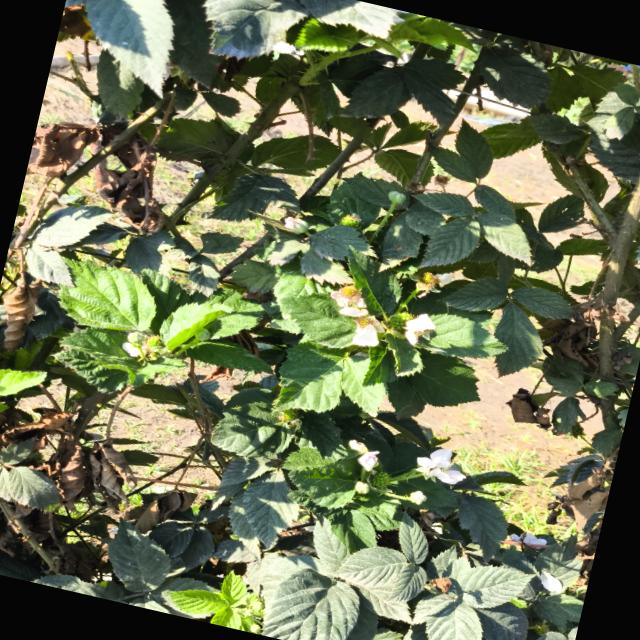boton: (387, 190, 405, 204), (126, 331, 144, 344), (354, 481, 369, 494)
flor: (416, 448, 465, 484), (404, 313, 435, 344), (351, 324, 378, 346), (357, 451, 378, 471), (283, 216, 308, 232), (348, 439, 368, 454)
verde: (388, 312, 412, 331), (371, 471, 390, 488), (339, 214, 360, 228), (147, 336, 163, 347)
